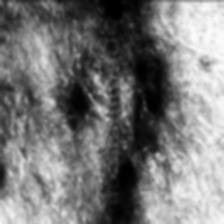Potentially Malignant Skin Tumors: (124, 43, 162, 199), (62, 63, 102, 140), (71, 0, 143, 20), (118, 203, 131, 224), (94, 206, 109, 224)
